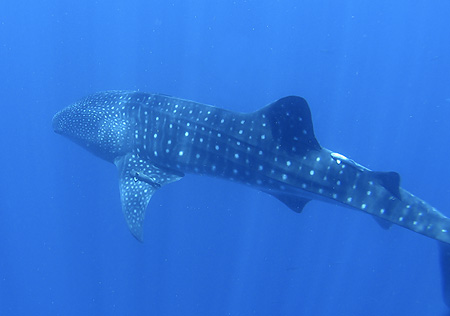Rhincodon_typusw: (36, 74, 449, 279)
